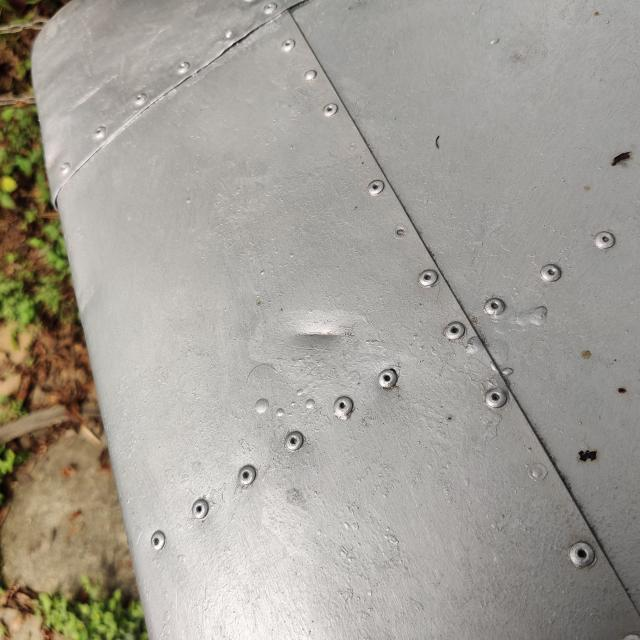dent: (266, 288, 364, 380)
